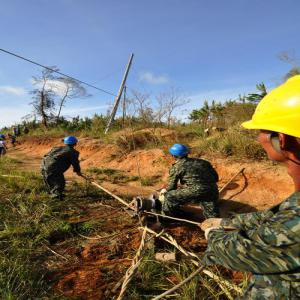blue: (170, 144, 189, 162), (64, 136, 80, 149)
yellow: (254, 77, 300, 161)
